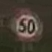limite 50: (9, 9, 43, 42)
